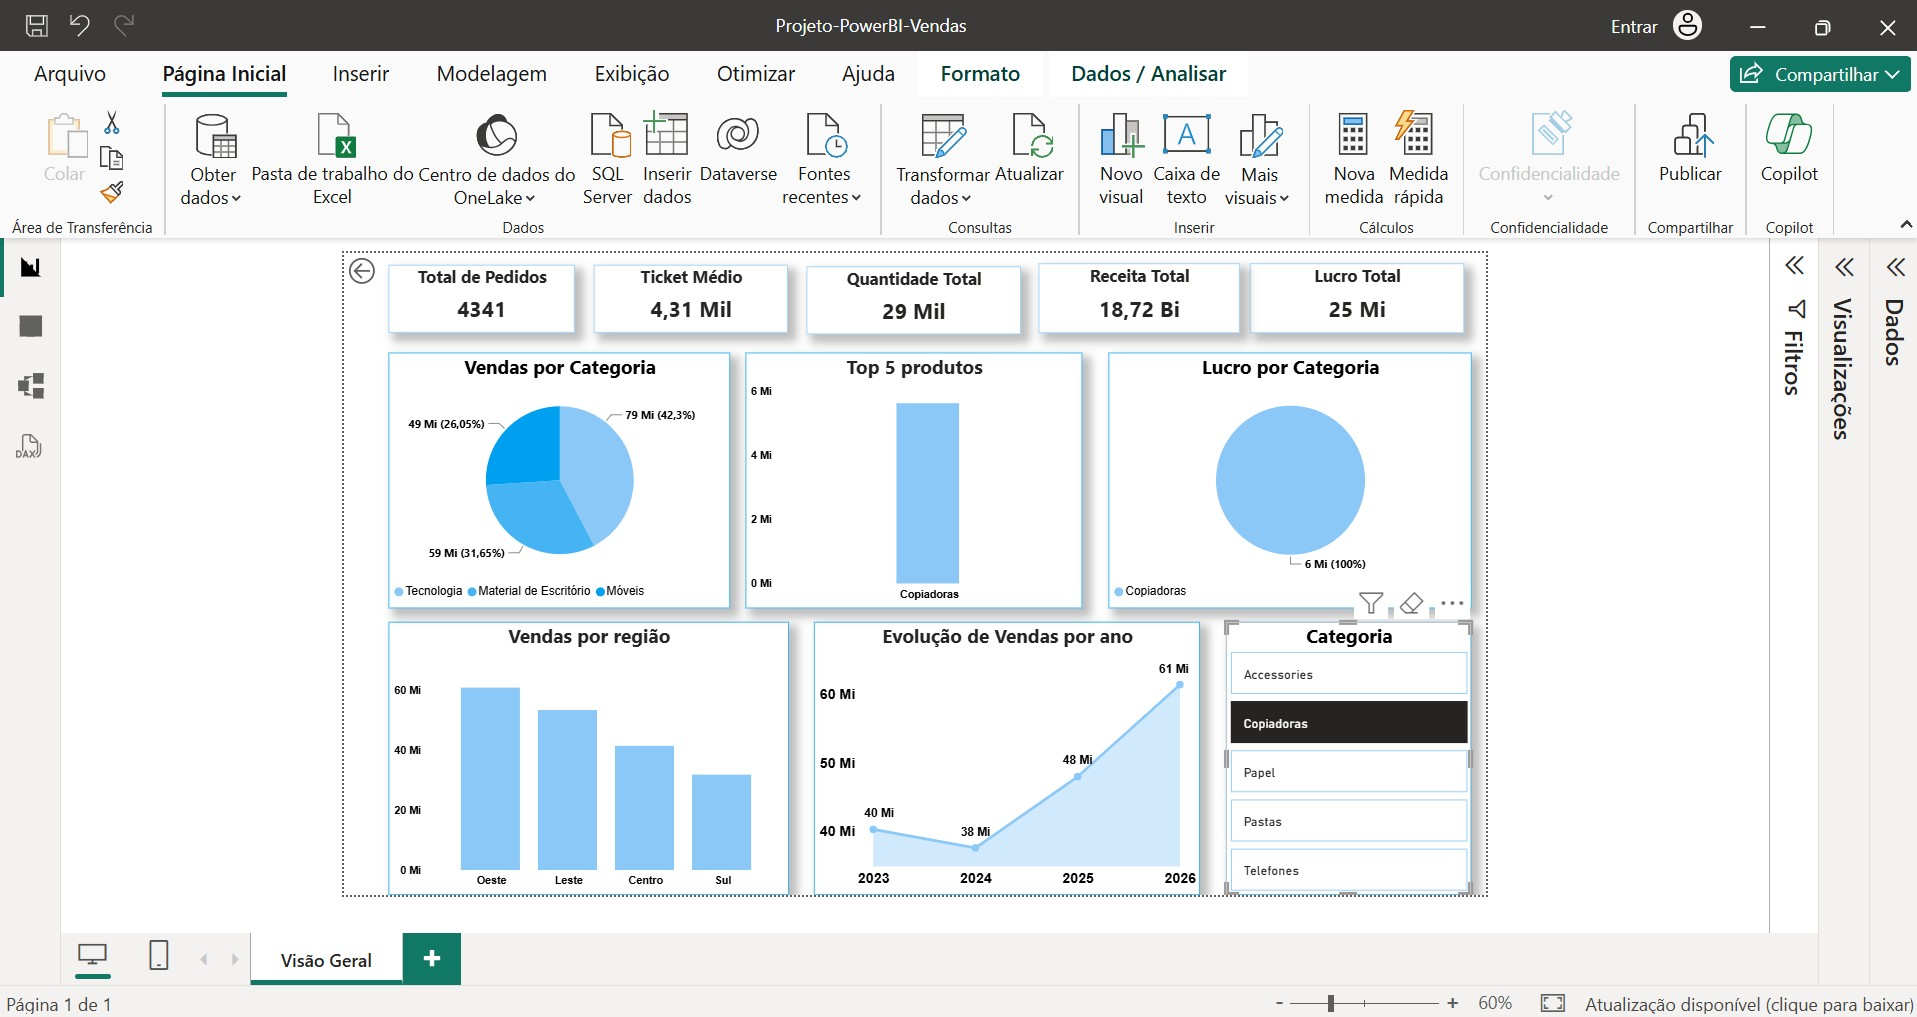

Layout of this report page (visuals, bound fields, positions):
{"tool":"powerbi","page":{"name":"Visão Geral","canvas":[1280,720],"ordinal":0},"visuals":[{"type":"card","title":"Lucro Total","fields":{"Values":["Sum(VISÃO GERAL.lucro_total)"]},"box":[1014.7,11.2,239.7,78.1],"z":0},{"type":"card","title":"Quantidade Total","fields":{"Values":["Sum(VISÃO GERAL.quantidade_total)"]},"box":[518.5,14.9,239.7,76.2],"z":1000},{"type":"card","title":"Ticket Médio","fields":{"Values":["Sum(SQLite 13.Ticket_Medio_Correto)"]},"box":[280.6,13,217.4,76.2],"z":2000},{"type":"card","title":"Receita Total","fields":{"Values":["Sum(SQLite 13.Receita_Total)"]},"box":[778.7,11.2,224.9,78.1],"z":3000},{"type":"card","title":"Total de Pedidos","fields":{"Values":["Sum(SQLite 13.Total_Pedidos)"]},"box":[50.2,13,208.1,76.2],"z":4000},{"type":"clusteredColumnChart","title":"Vendas por região","fields":{"Category":["VENDAS POR REGIÃO.region"],"Y":["Sum(VENDAS POR REGIÃO.receita)"]},"box":[50.2,413.8,448.2,305.6],"z":5000},{"type":"lineChart","title":"Evolução de Vendas por ano","fields":{"Category":["EVOLUÇÃO ANOS.ano"],"Y":["Sum(EVOLUÇÃO ANOS.receita)"]},"box":[526.6,413.8,432.6,305.6],"z":6000},{"type":"pieChart","title":"Vendas por Categoria","fields":{"Category":["VENDAS POR CATEGORIA.category"],"Y":["Sum(VENDAS POR CATEGORIA.receita)"]},"box":[50.2,111.5,382.8,286.2],"z":7000},{"type":"pieChart","title":"Lucro por Categoria","fields":{"Category":["SUBCATEGORIAS TOP 5 LUCRATIVAS.sub_category"],"Y":["Sum(SUBCATEGORIAS TOP 5 LUCRATIVAS.lucro)"]},"box":[856.8,111.5,407,286.2],"z":8000},{"type":"actionButton","box":[0,0,100,40],"z":9000},{"type":"columnChart","title":"Top 5 produtos","fields":{"Category":["SUBCATEGORIAS TOP 5 LUCRATIVAS.sub_category"],"Y":["Sum(SUBCATEGORIAS TOP 5 LUCRATIVAS.lucro)"]},"box":[449.8,111.5,377.3,286.2],"z":10000},{"type":"advancedSlicerVisual","title":"Categoria","fields":{"Values":["VENDAS POR CATEGORIA.category"]},"box":[989,414,275,306],"z":10001}]}

Visuals, with their boxes on the page's 1280x720 design canvas (x1, y1, x2, y2). These are canvas units, not pixel positions in the 1917x1017 screenshot, which may show the page scaled, cropped or inside an application window:
"Lucro Total" card: bbox=(1015, 11, 1254, 89)
"Quantidade Total" card: bbox=(518, 15, 758, 91)
"Ticket Médio" card: bbox=(281, 13, 498, 89)
"Receita Total" card: bbox=(779, 11, 1004, 89)
"Total de Pedidos" card: bbox=(50, 13, 258, 89)
"Vendas por região" clusteredColumnChart: bbox=(50, 414, 498, 719)
"Evolução de Vendas por ano" lineChart: bbox=(527, 414, 959, 719)
"Vendas por Categoria" pieChart: bbox=(50, 112, 433, 398)
"Lucro por Categoria" pieChart: bbox=(857, 112, 1264, 398)
actionButton: bbox=(0, 0, 100, 40)
"Top 5 produtos" columnChart: bbox=(450, 112, 827, 398)
"Categoria" advancedSlicerVisual: bbox=(989, 414, 1264, 720)
